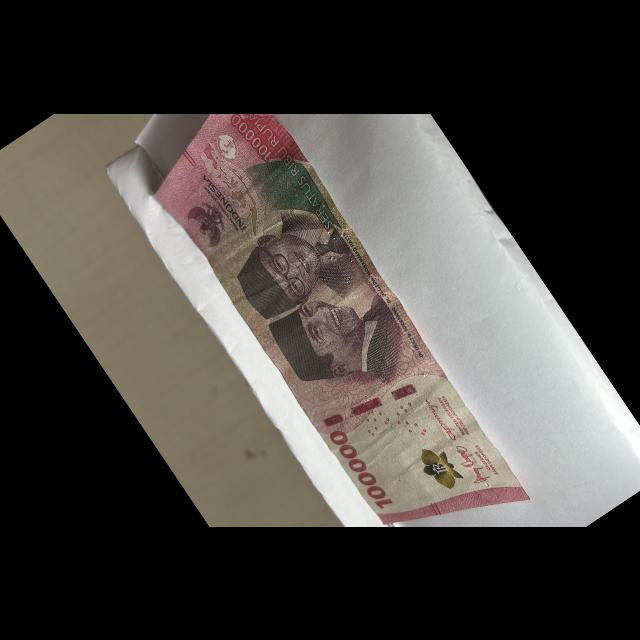Palsu-100k: (150, 109, 536, 589)
Tinta-Palsu-100k: (411, 438, 467, 500)
